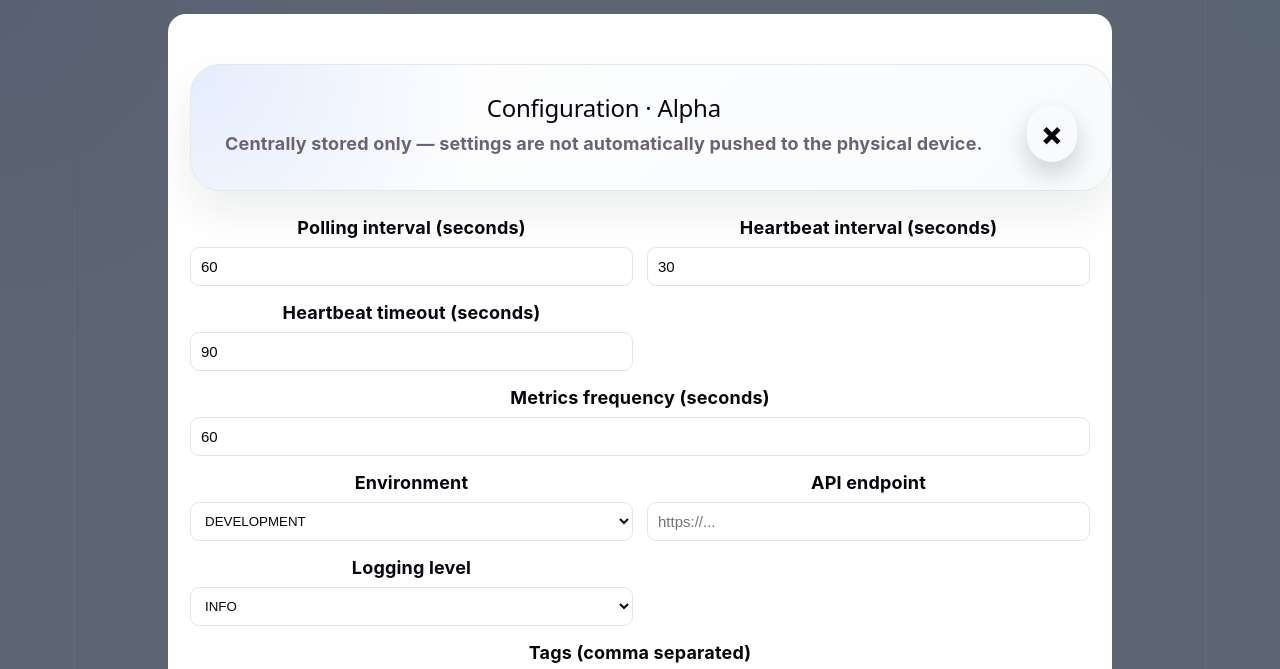
Test case: DeviceConfigurationDialog › validates intervals before saving
This screenshot has width=1280, height=669.
Replace the text in the number field labelled "Polling interval (seconds)" with "1": x=412, y=267 [190,247,633,286]
(page scrolled)
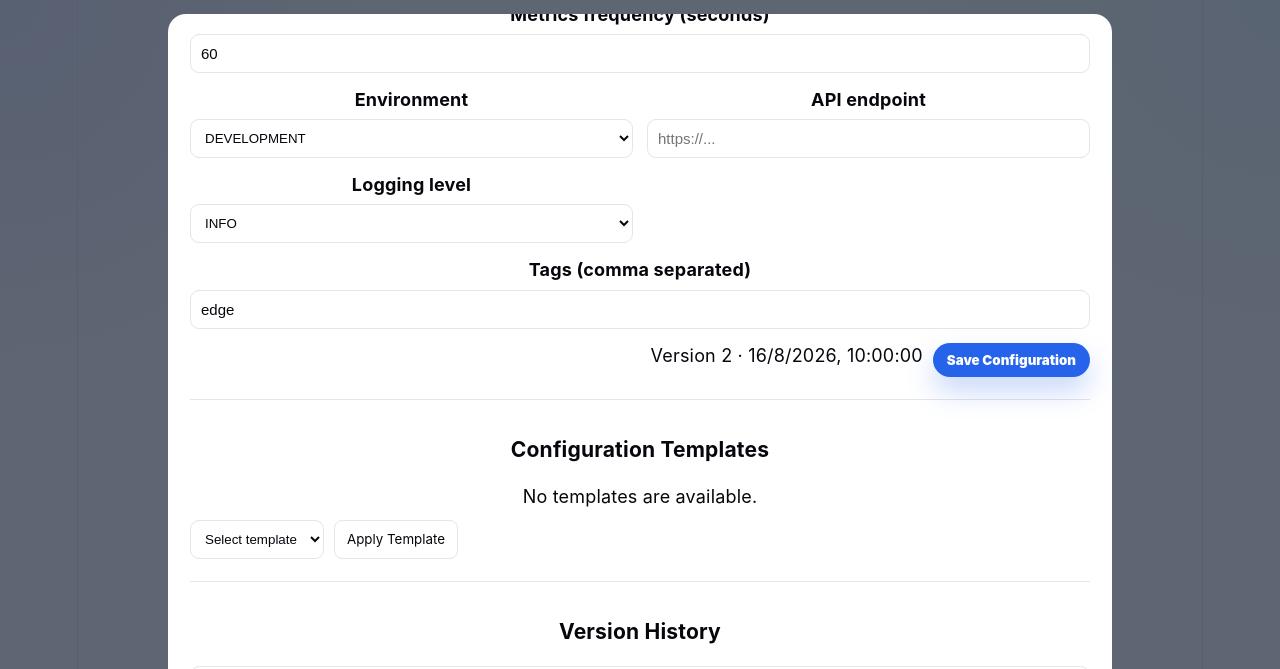
Click the button "Save Configuration": x=1011, y=360 [933,343,1090,377]
(page scrolled)
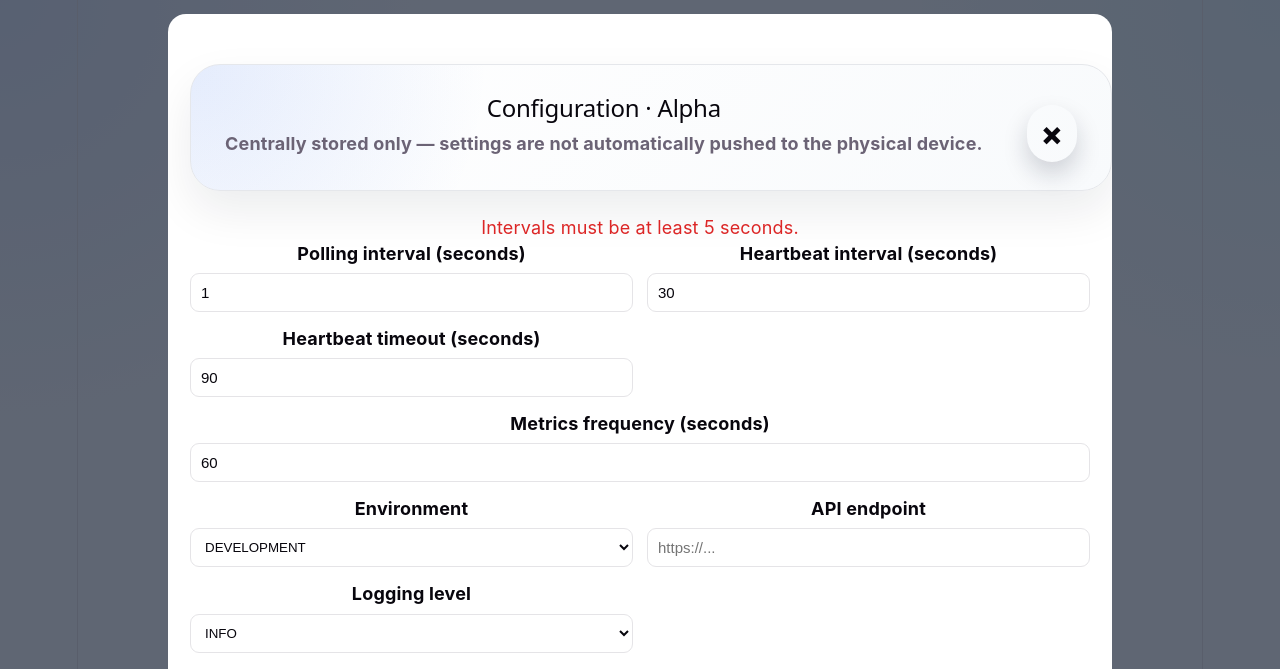
Expected: the message shows "at least 5", [481,217,799,238]
